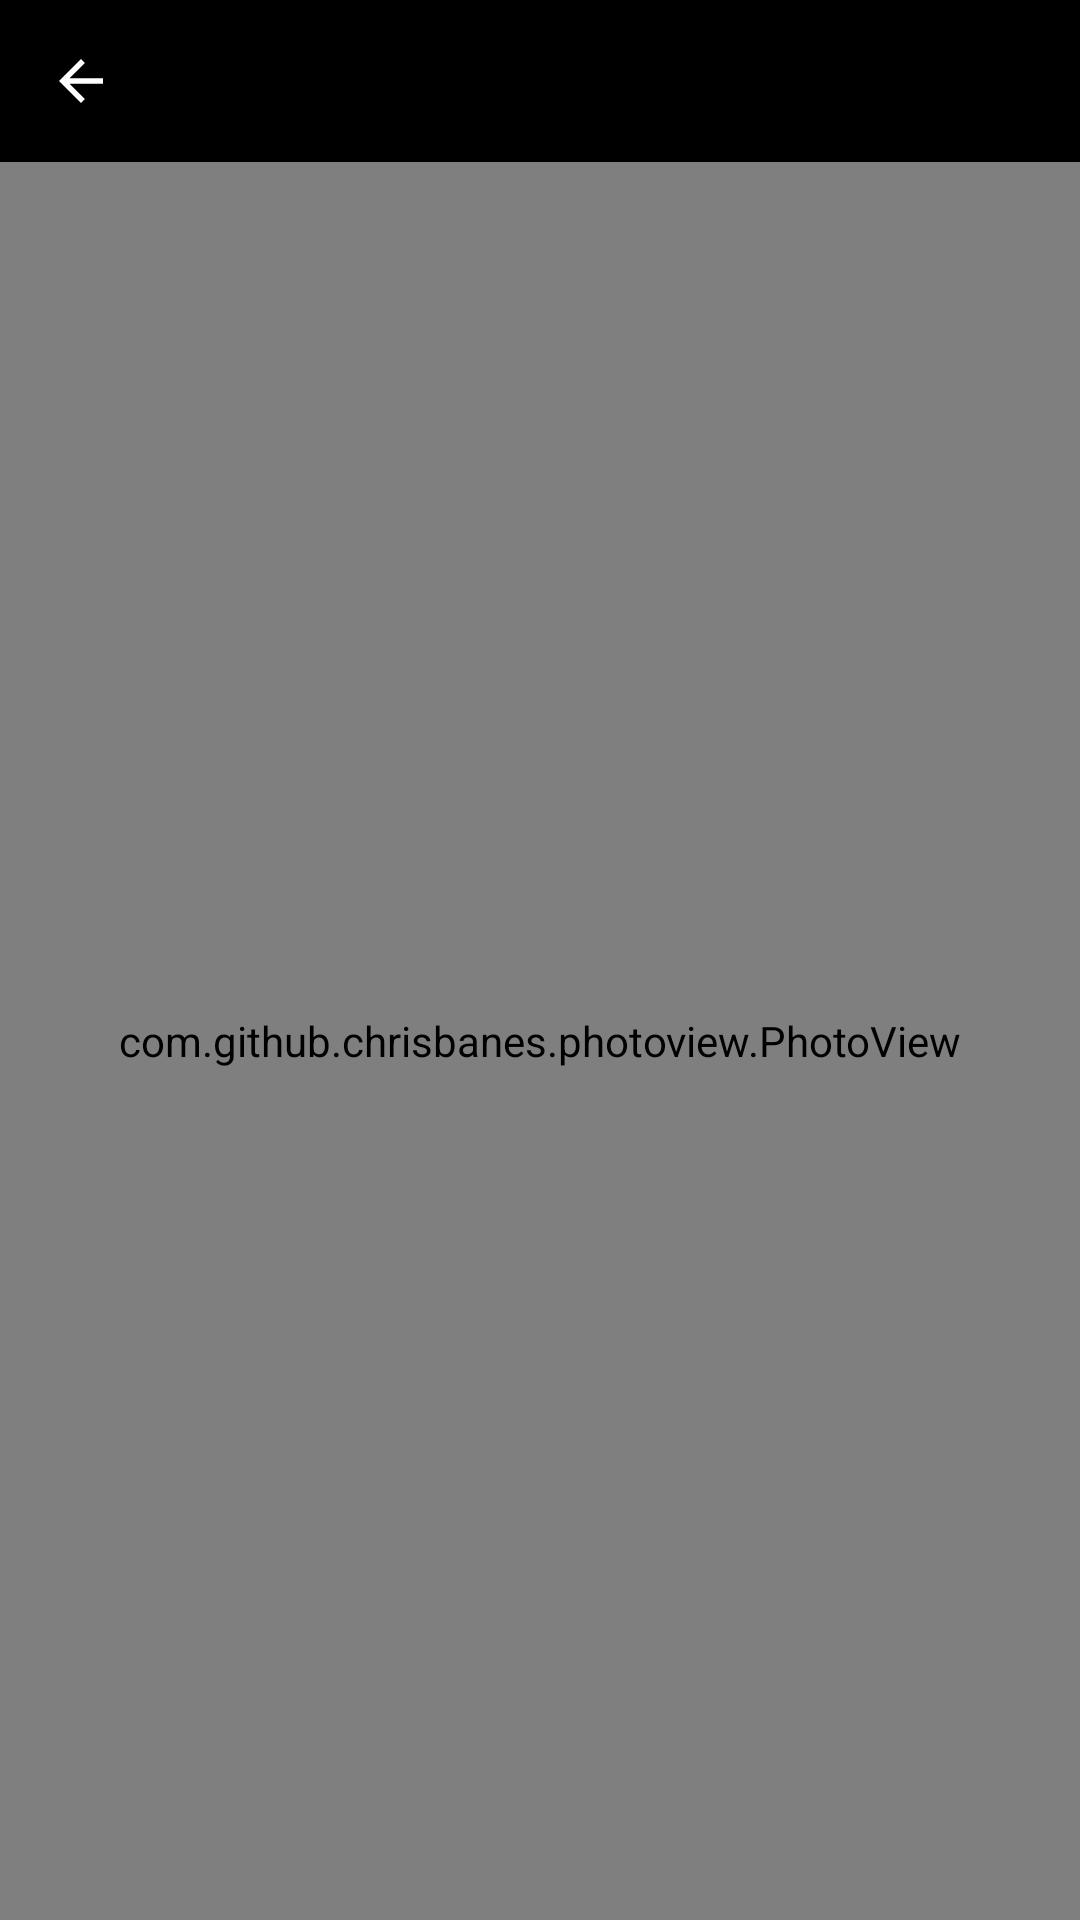

Icons on this 1080 x 1920 Android screen, each with the point to tap as (x,y):
arrow back: (81,81)
